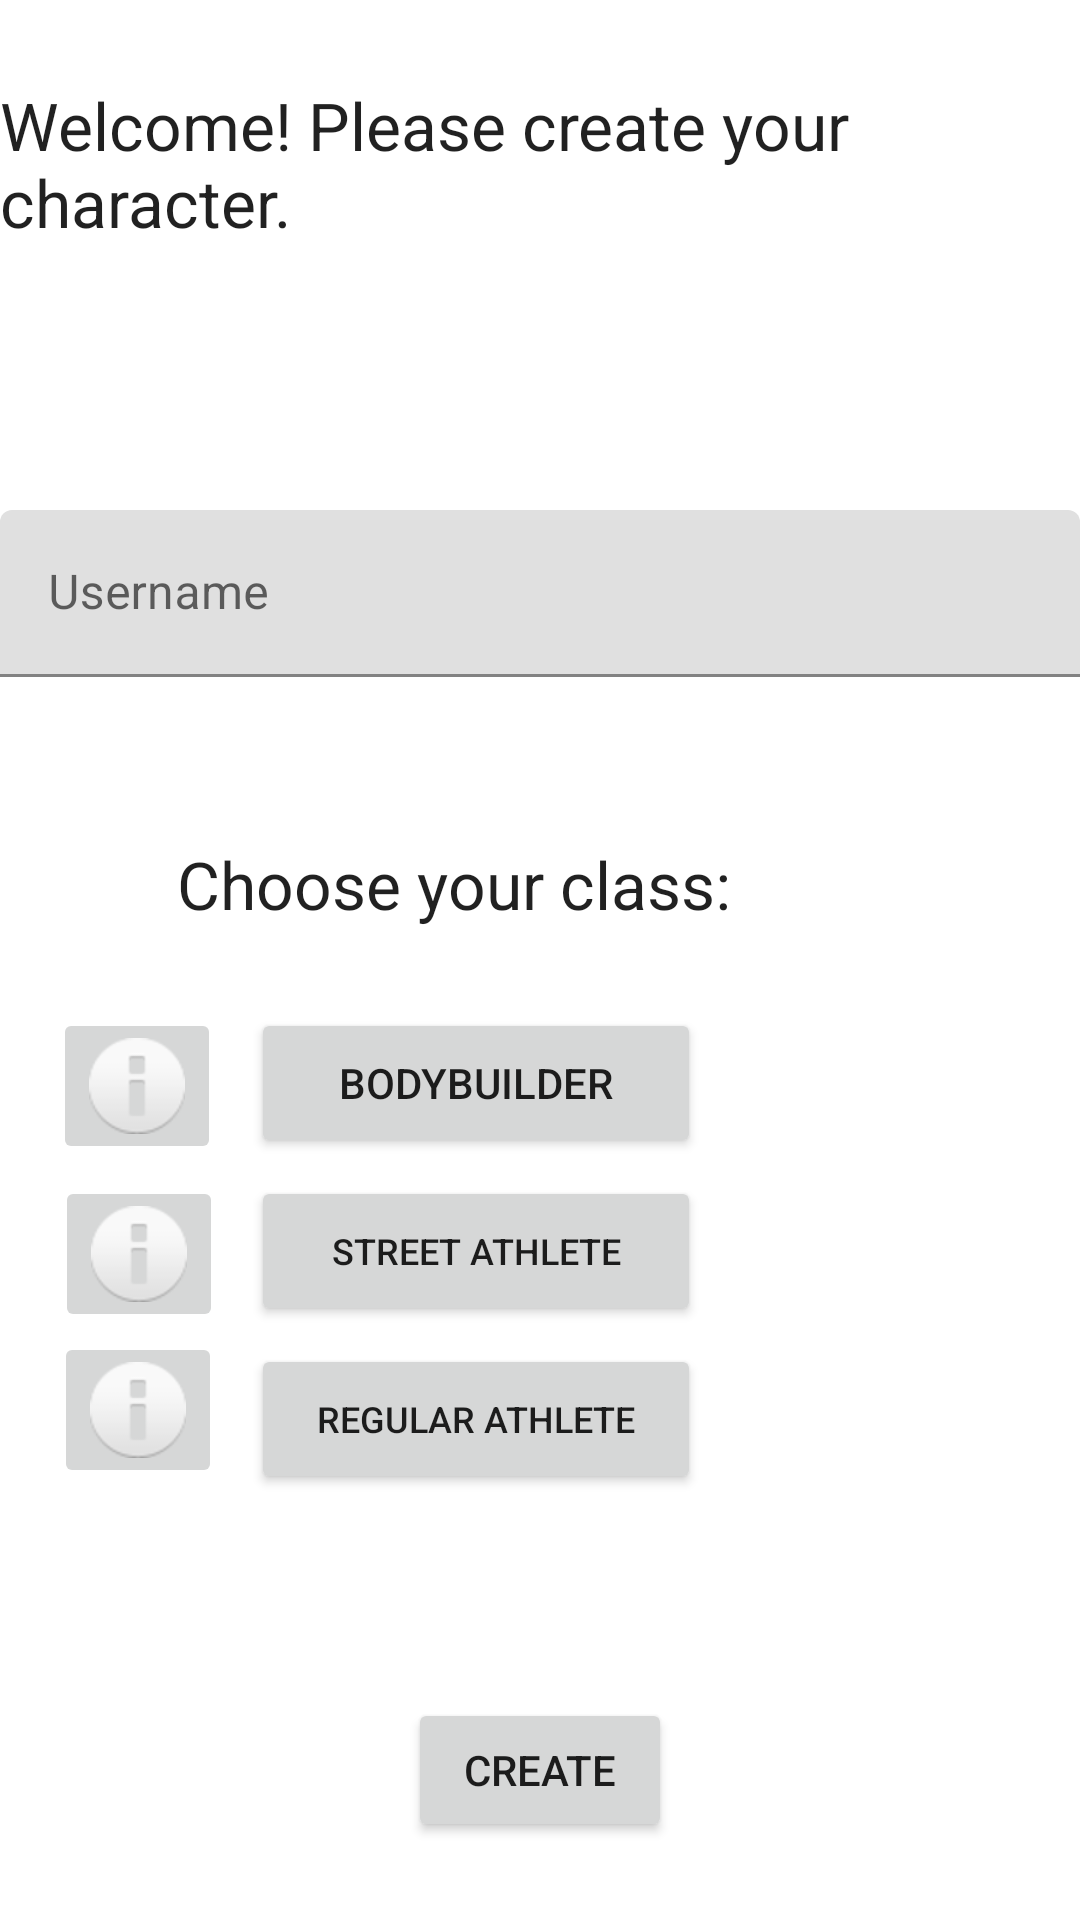

Screen size 1080 x 1920. Icon name, then its box in pixels as (x1, y1, x2, y2):
info: (65, 1026, 209, 1146), (67, 1194, 211, 1314), (66, 1350, 210, 1470)
